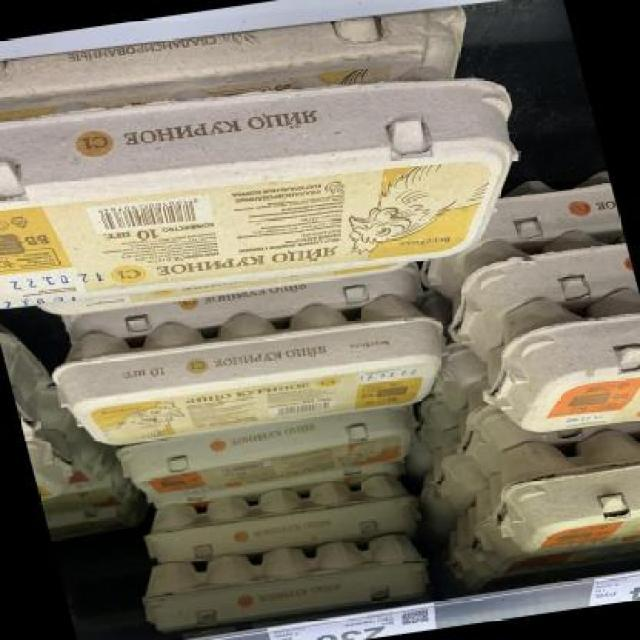egg: (1, 45, 556, 329), (40, 283, 469, 459), (114, 402, 422, 506), (459, 288, 639, 440)
